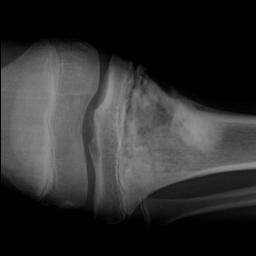cancer: (162, 86, 222, 153), (119, 61, 158, 156)
